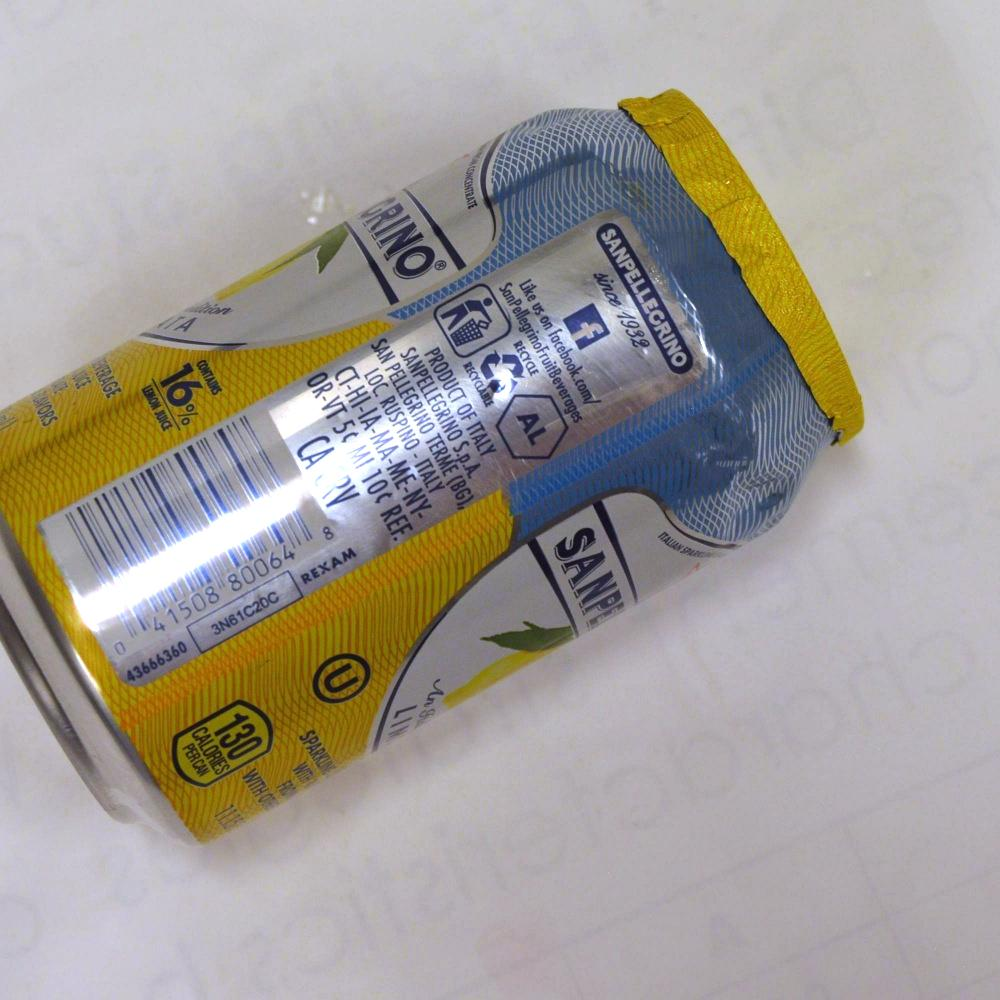Metal: (11, 83, 878, 852)
